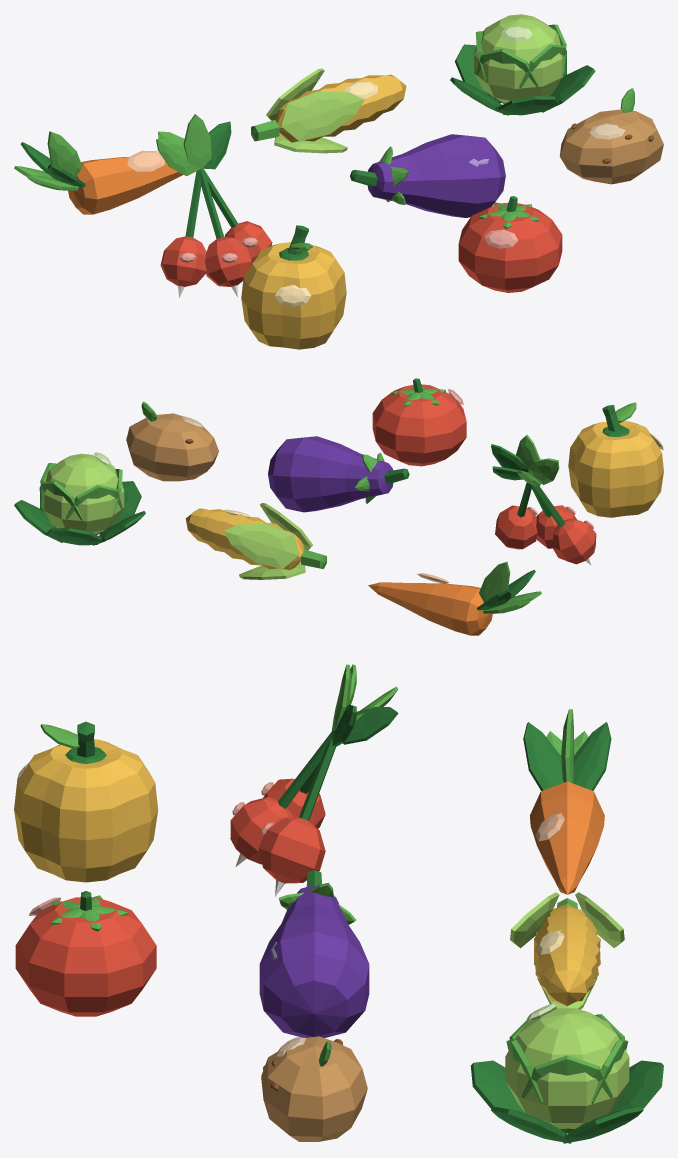
Rendered from low-poly-vegetable-pickups.glb.
3 views of the same model, one above another, from view 1: azimuth 30°, elevation 25°; view 2: azimuth 150°, elevation 25°; view 3: azimuth 270°, elevation 25° (orthographic). The views are drawn at different scales.
Parts seen in each view (by area): view 1: Cabbage, BellPepper, Radishes, Eggplant, Corn, Tomato, Carrot, Potato; view 2: BellPepper, Cabbage, Eggplant, Radishes, Corn, Tomato, Carrot, Potato; view 3: Cabbage, BellPepper, Tomato, Eggplant, Radishes, Carrot, Potato, Corn.
Boxes of the visible parts, x1,y1,x2,y2 form: Cabbage: [450, 14, 595, 115]; BellPepper: [241, 225, 346, 349]; Radishes: [156, 114, 272, 297]; Eggplant: [350, 134, 505, 217]; Corn: [251, 68, 406, 153]; Tomato: [458, 196, 562, 292]; Carrot: [14, 131, 183, 214]; Potato: [559, 88, 663, 184]; BellPepper: [568, 402, 663, 517]; Cabbage: [14, 452, 145, 545]; Eggplant: [268, 436, 409, 512]; Radishes: [491, 434, 596, 565]; Corn: [185, 503, 326, 579]; Tomato: [372, 378, 466, 466]; Carrot: [368, 561, 541, 635]; Potato: [126, 401, 218, 481]; Cabbage: [470, 1004, 663, 1143]; BellPepper: [14, 721, 158, 882]; Tomato: [15, 891, 156, 1016]; Eggplant: [259, 870, 369, 1037]; Radishes: [230, 664, 398, 896]; Carrot: [523, 709, 611, 894]; Potato: [261, 1036, 367, 1141]; Corn: [510, 892, 624, 1009].
Size of the model in its own units: 5.93 by 1.56 by 4.5.
